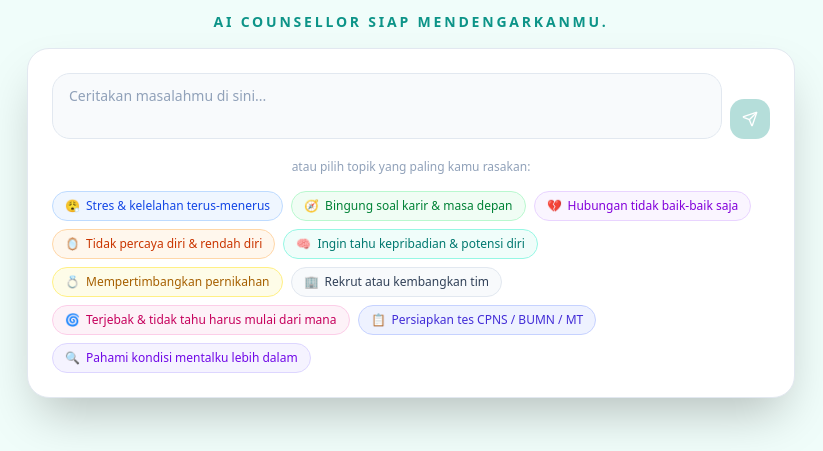
Test: PsikotesDiagnostic › clicking a bubble sends message and transitions to chatting
Click the text "Stres & kelelahan terus-menerus" at (178, 206), box [86,198,270,214]
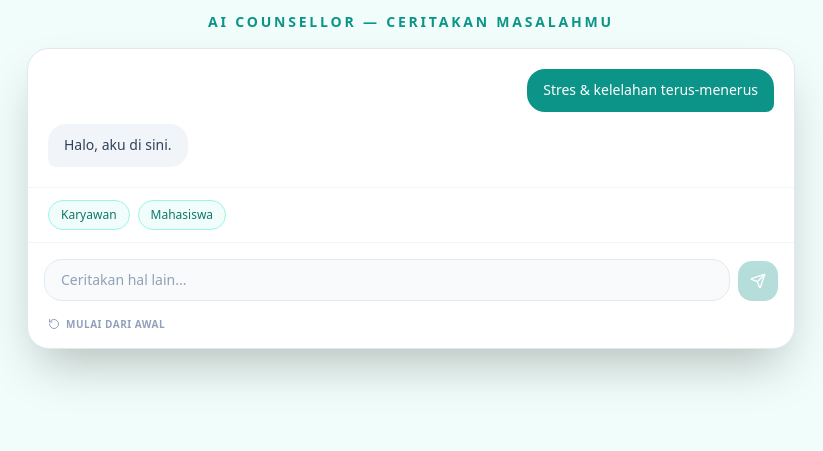
Expected: the text "Halo, aku di sini." is shown, [64,134,172,157]
